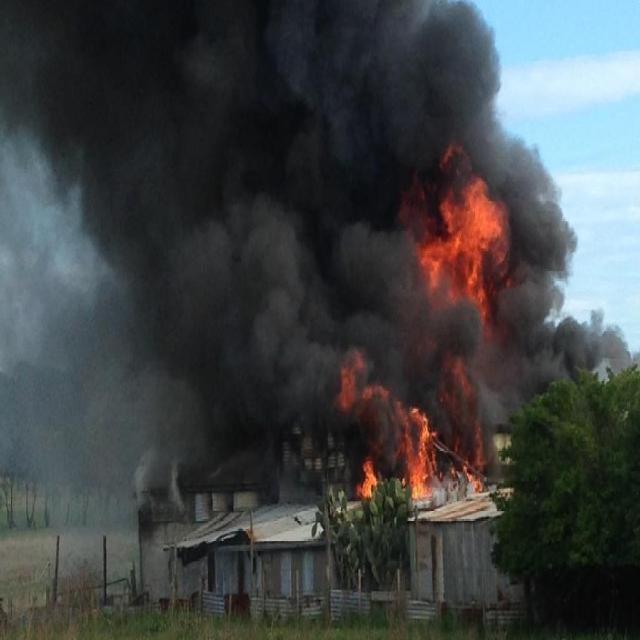Fire: (411, 138, 521, 334), (340, 369, 438, 497), (458, 414, 488, 490), (360, 453, 378, 498)
Smoke: (1, 0, 410, 379), (0, 378, 320, 519), (508, 132, 640, 375), (410, 3, 504, 154), (410, 338, 503, 422)
